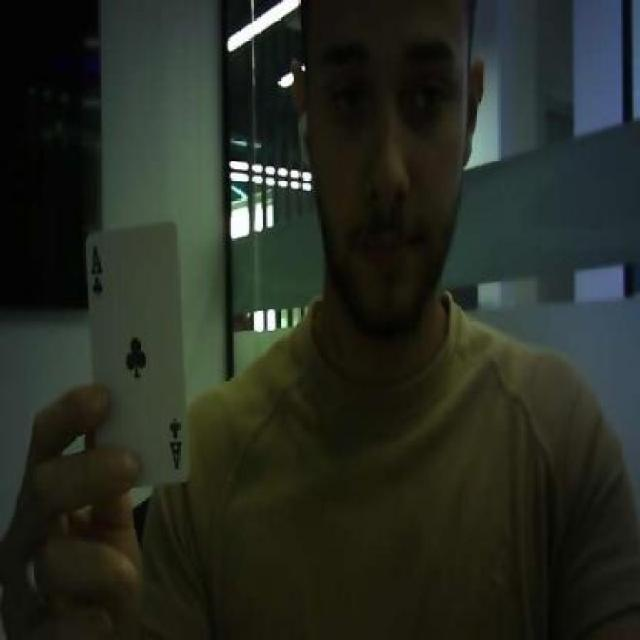AC: (89, 240, 103, 303), (167, 417, 181, 474)
